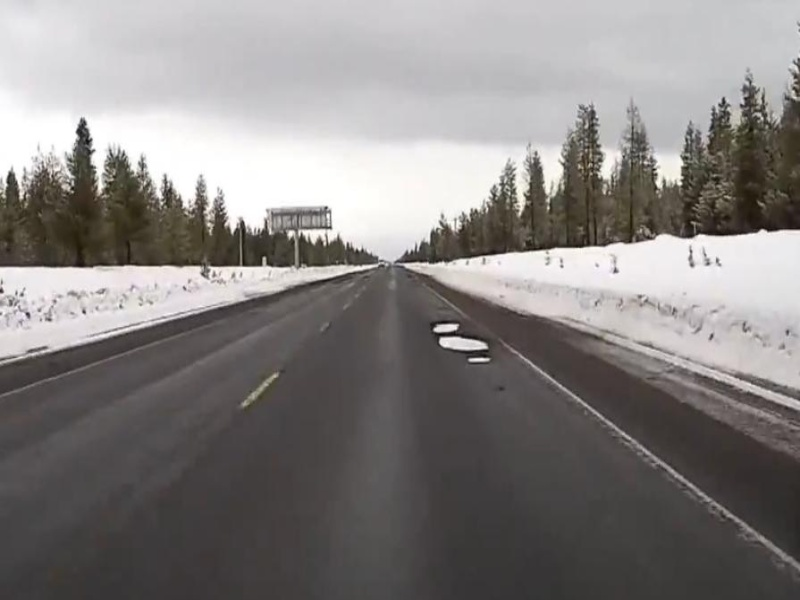pothole: (433, 333, 496, 353), (426, 318, 466, 334), (460, 353, 495, 365)
